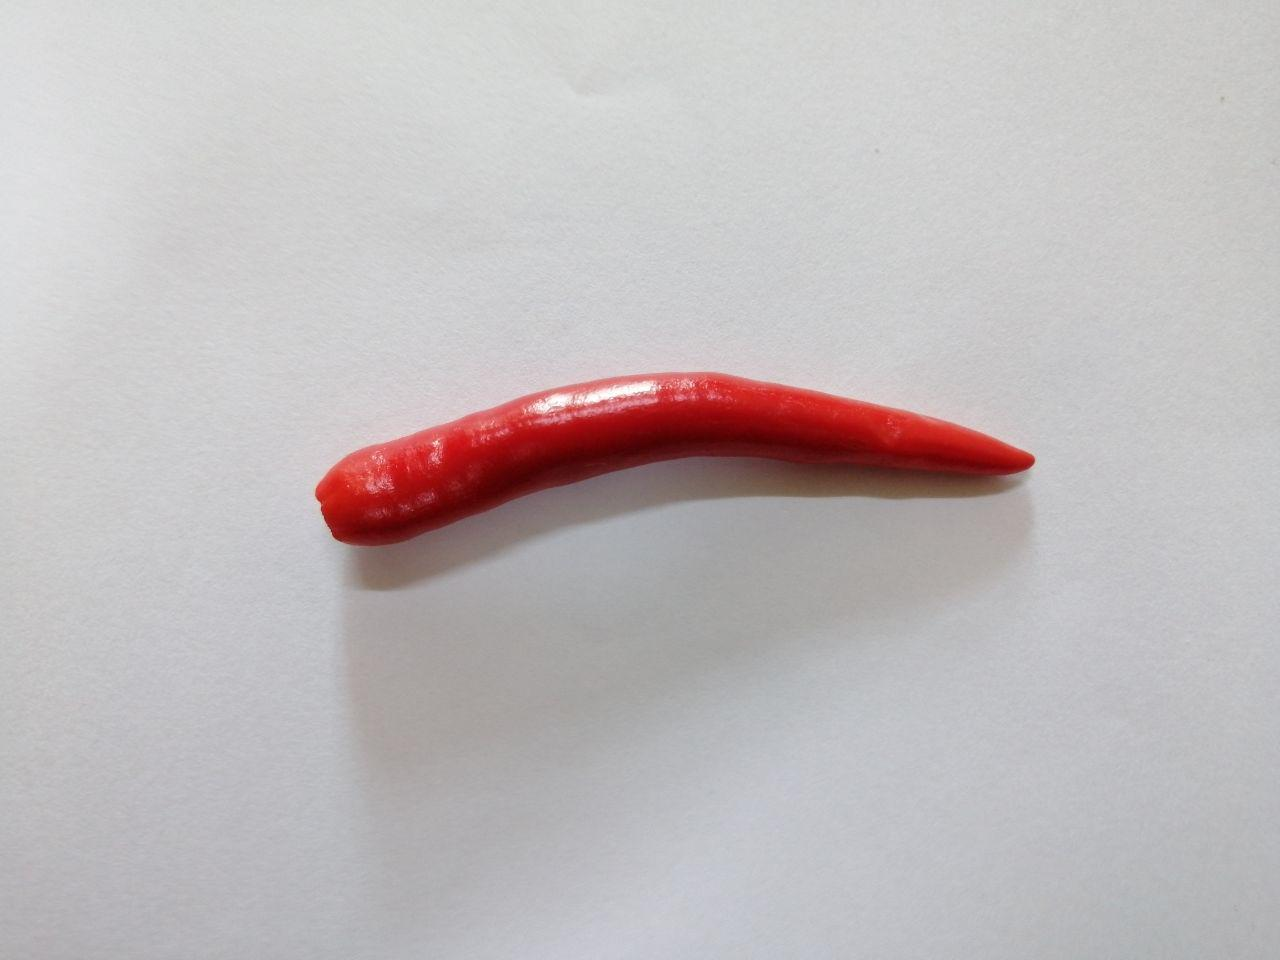lada merah: (296, 358, 1053, 568)
